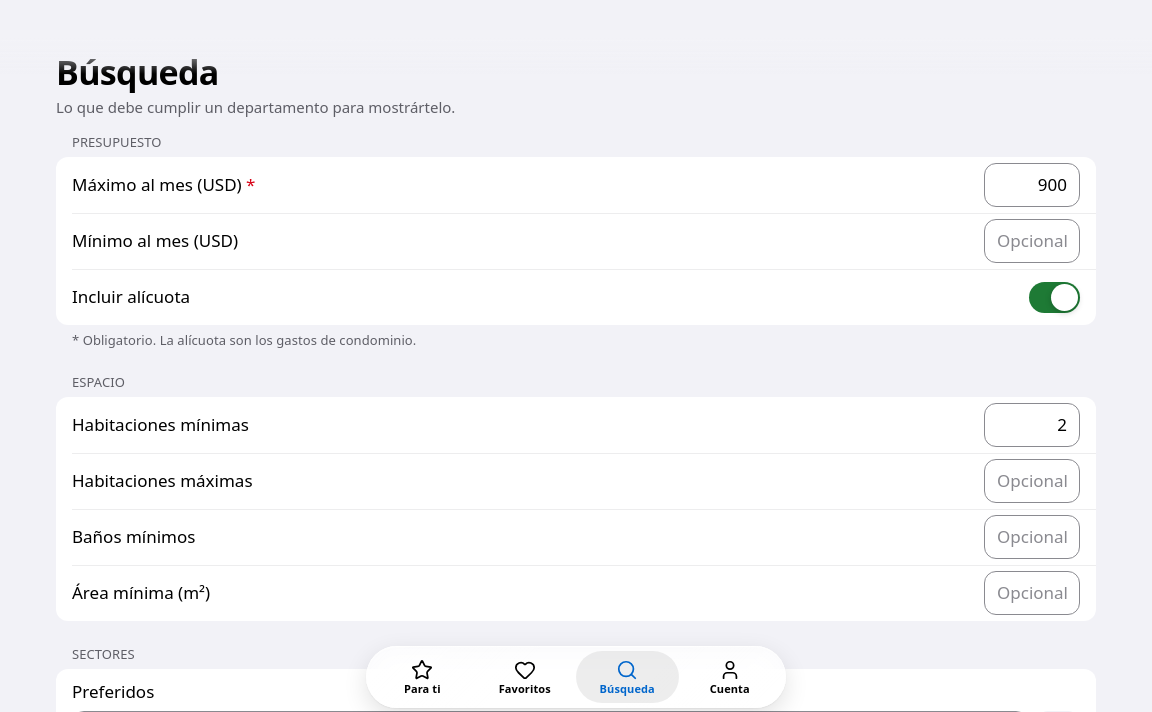
Test case: SearchProfilePage › loads the saved search and saves the edited one
Type "1100" into the field labelled "Máximo al mes (USD)". click: (1032, 185)
box: [984,163,1080,207]
(page scrolled)
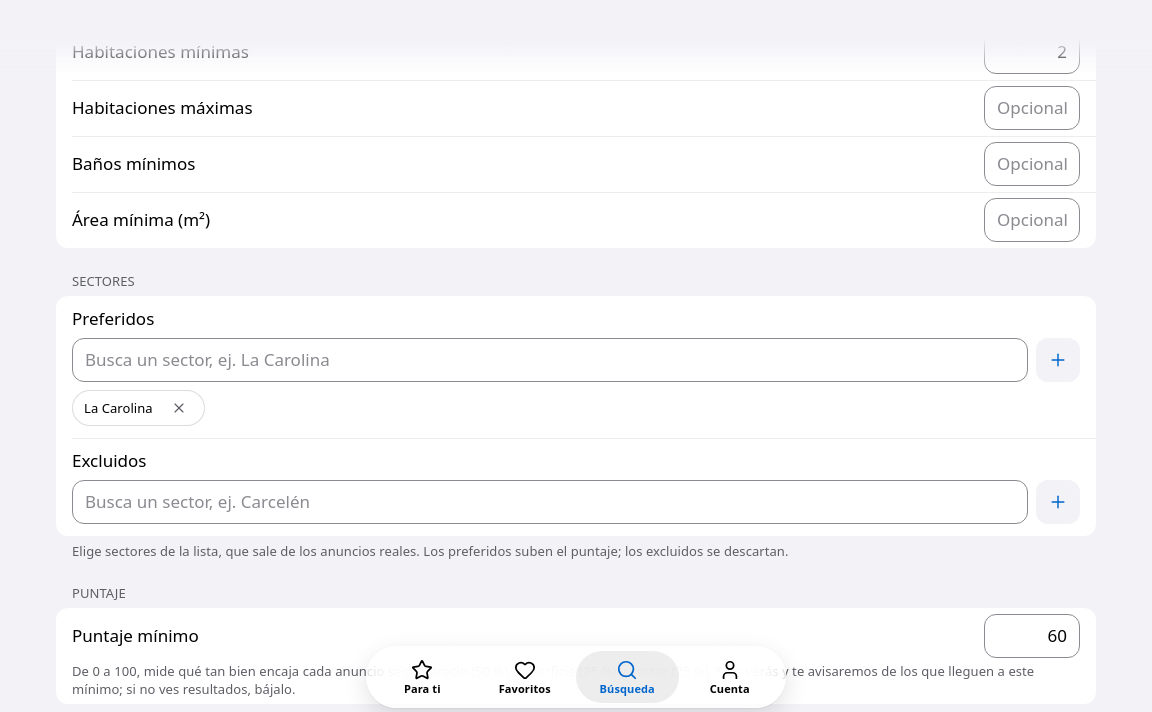
Type "Cumbayá" into the dropdown labelled "Preferidos". click: (550, 360)
box: [72,338,1028,382]
Then press Enter
(page scrolled)
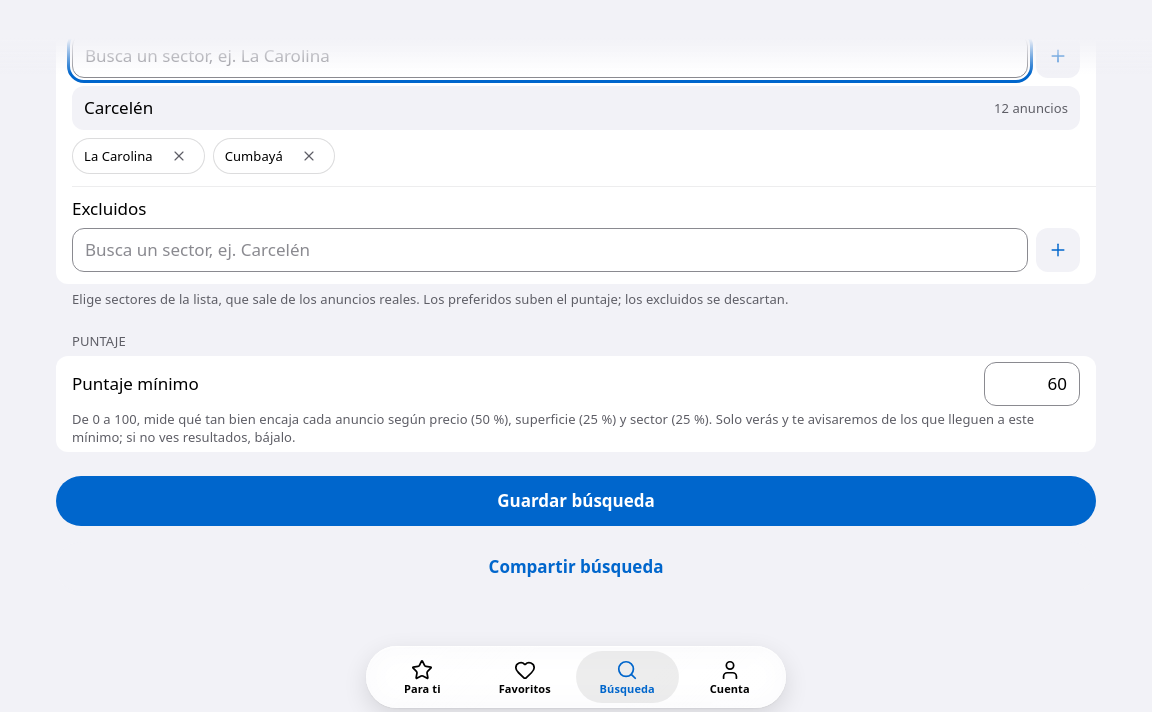
Click the button "Guardar búsqueda". click: (576, 501)
box: [56,476,1096,526]
(page scrolled)
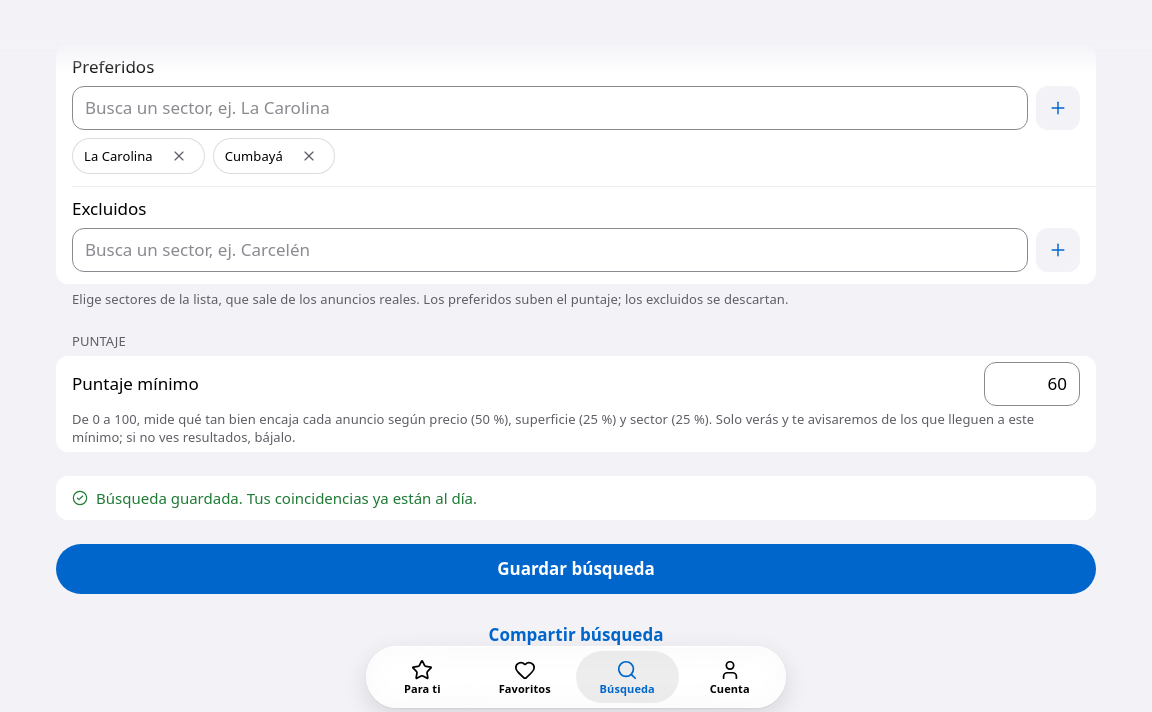
Now the message shows "Búsqueda guardada", box [96,488,477,508]
